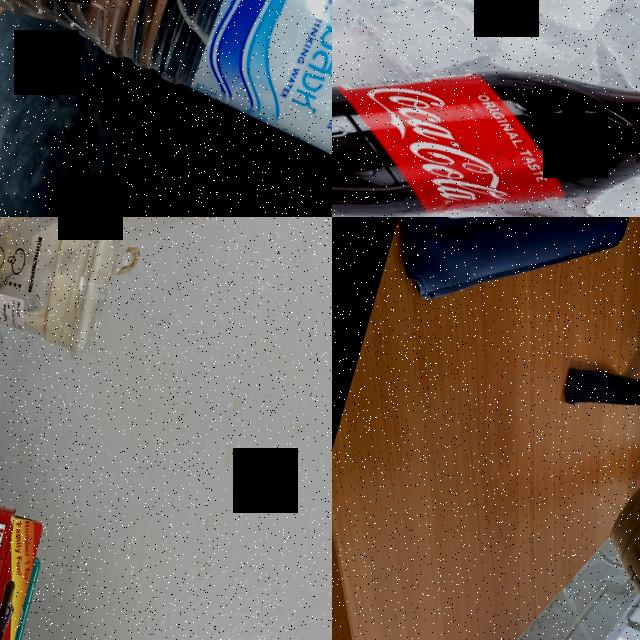bottle: (0, 0, 332, 207), (332, 0, 640, 217)
cup: (0, 217, 135, 363), (569, 461, 640, 640)
